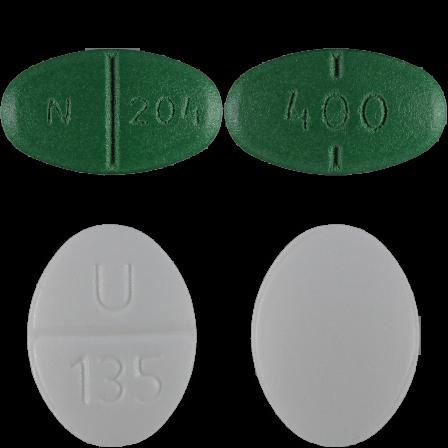66267-057: (0, 0, 224, 224)
